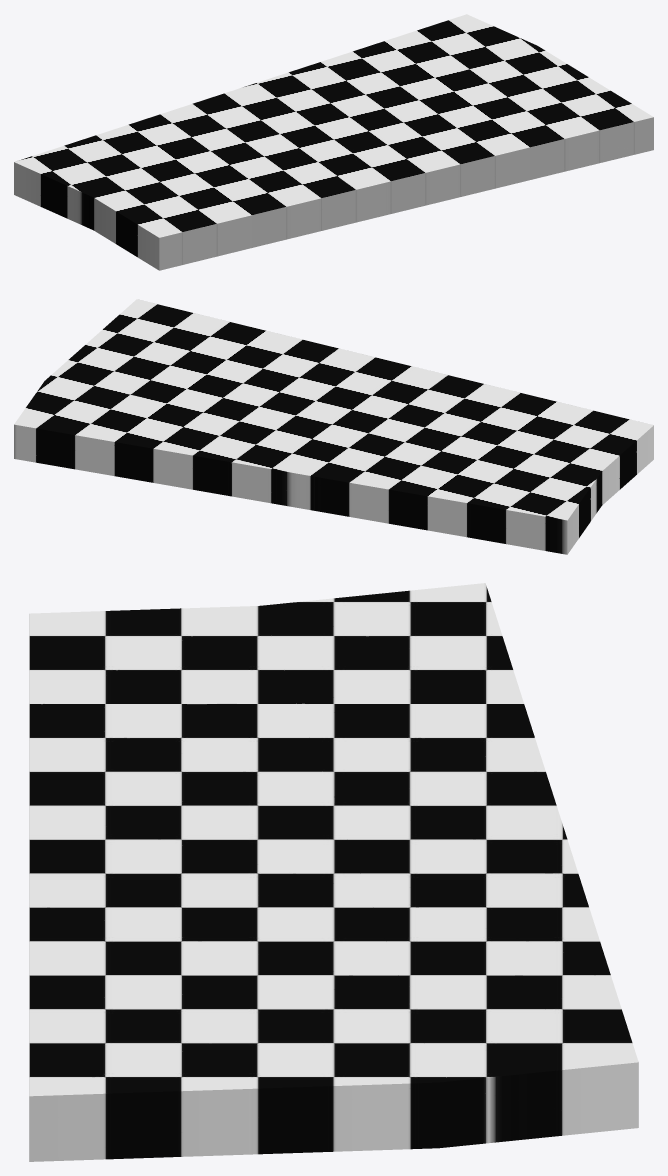
The model's file is checkboard.fbx.
3 views of the same model, one above another, from view 1: azimuth 30°, elevation 25°; view 2: azimuth 150°, elevation 25°; view 3: azimuth 270°, elevation 25° (orthographic). The views are drawn at different scales.
Visible parts, largest first — view 1: checkboard1; view 2: checkboard1; view 3: checkboard1.
Boxes of the visible parts, left/top/right/bottom form: checkboard1: left=14, top=14, right=653, bottom=270; checkboard1: left=14, top=299, right=653, bottom=554; checkboard1: left=29, top=583, right=638, bottom=1161.
Size of the model in its own units: 32.99 by 1.97 by 16.56.
